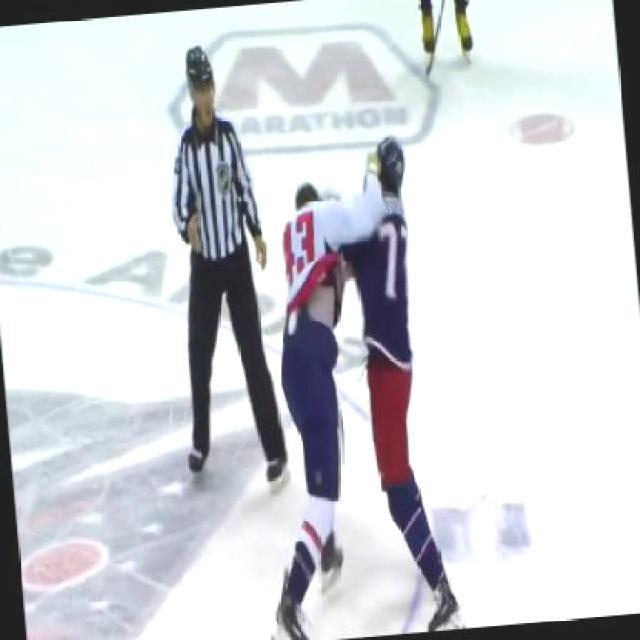fight: (262, 127, 452, 638)
non-fight: (158, 32, 292, 502)
